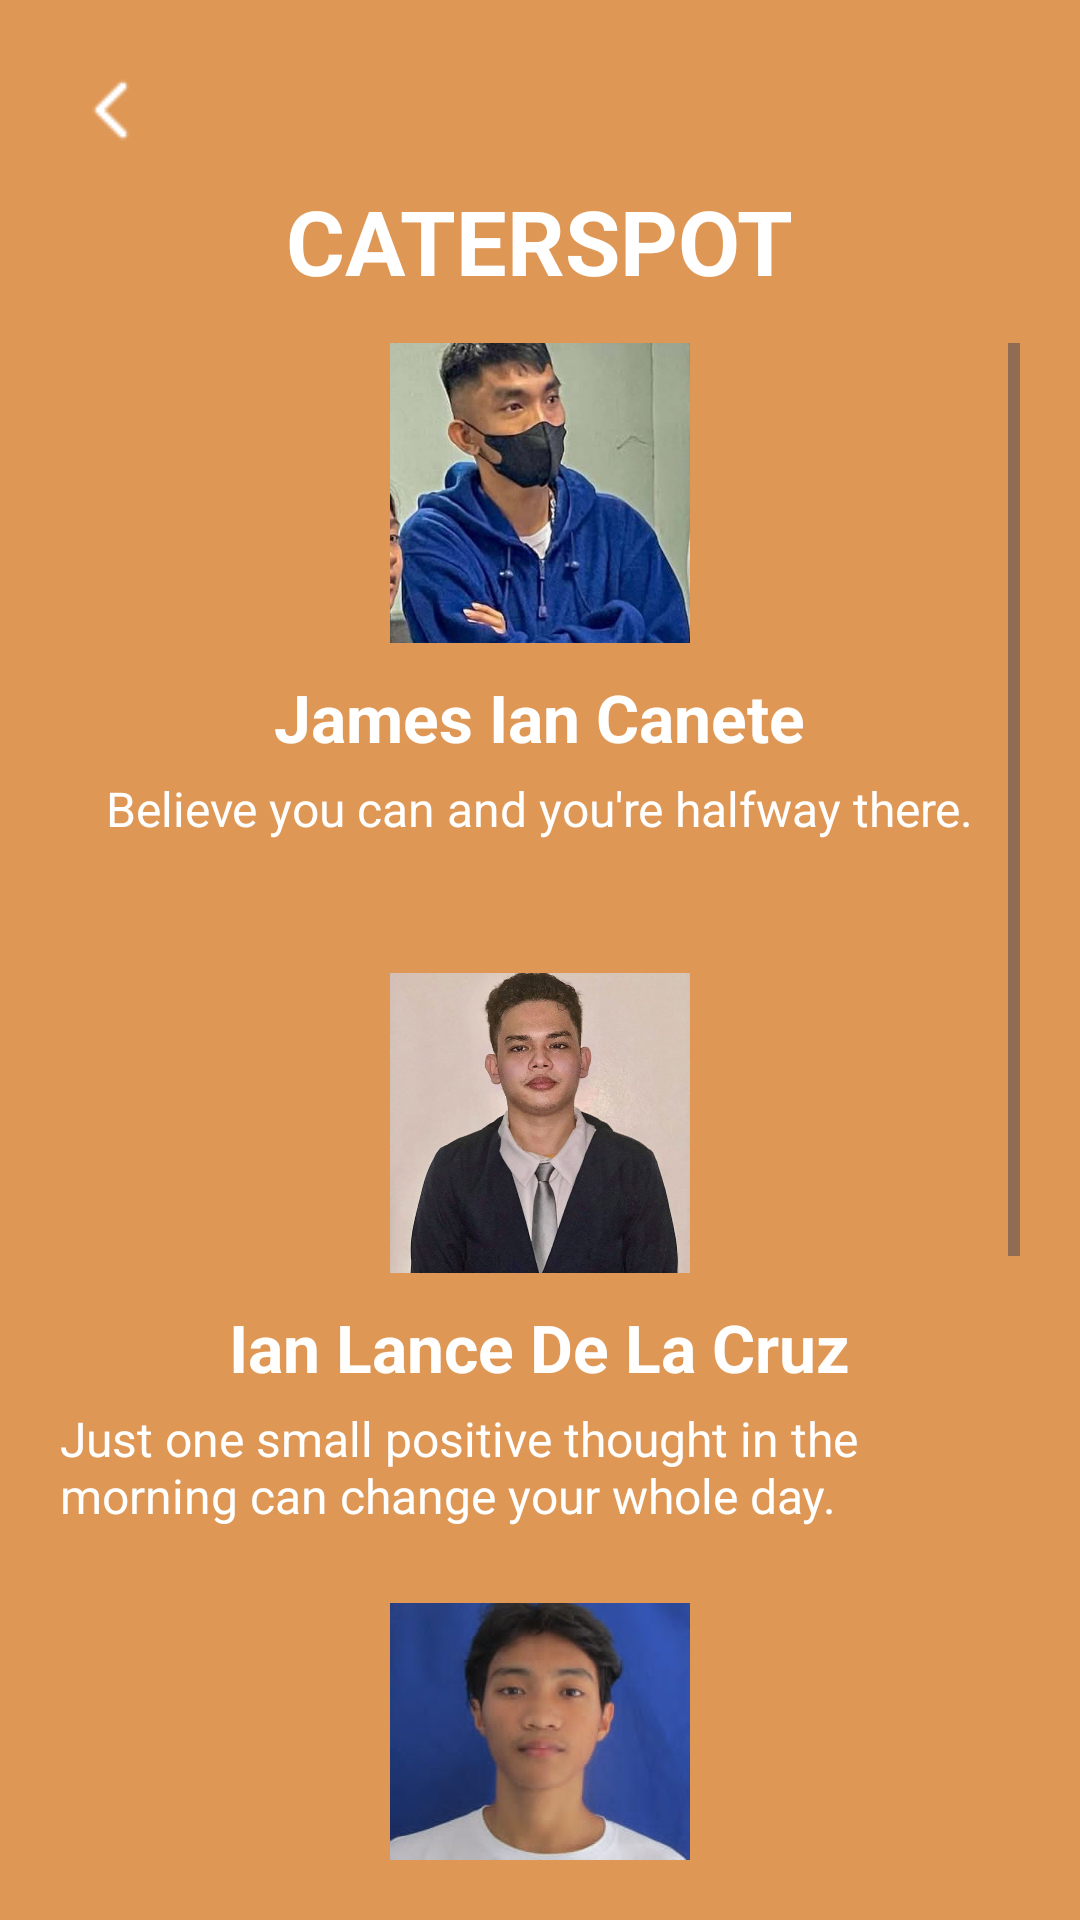

Icons on this 1080×1920 Android screen, each with its box as (x1, y1, x2, y2):
Back: (94, 81, 128, 139)
